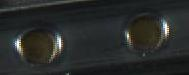joints: (120, 10, 171, 55), (12, 25, 63, 66)
